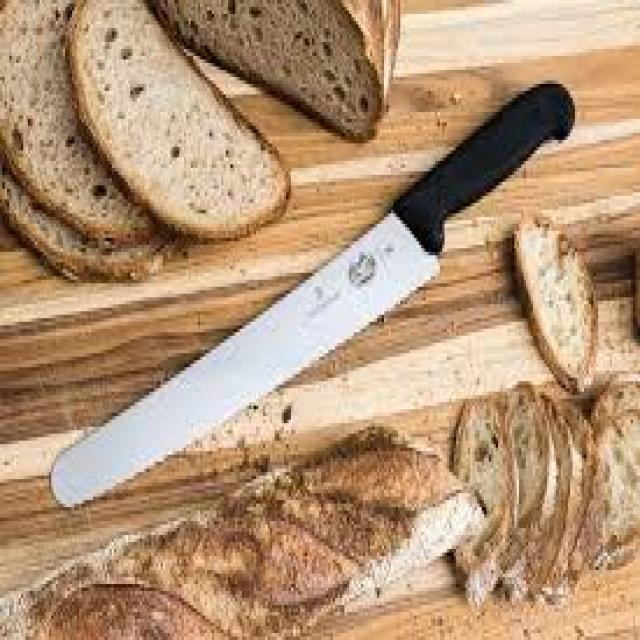Knife: (54, 84, 573, 500)
